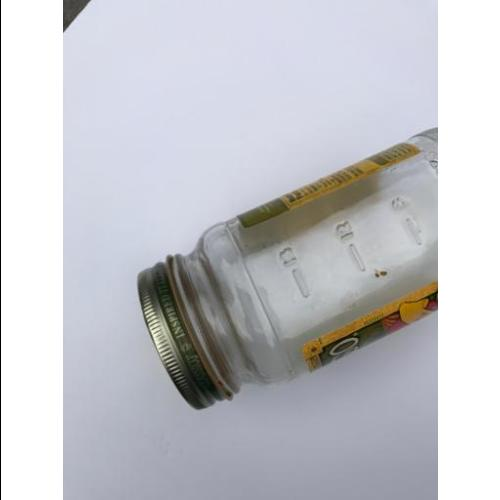glass: (139, 128, 438, 413)
